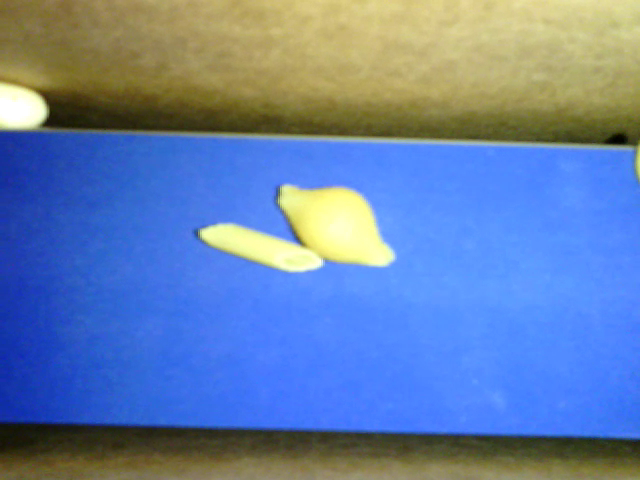penne: (196, 221, 324, 272)
shell: (277, 183, 396, 269)
